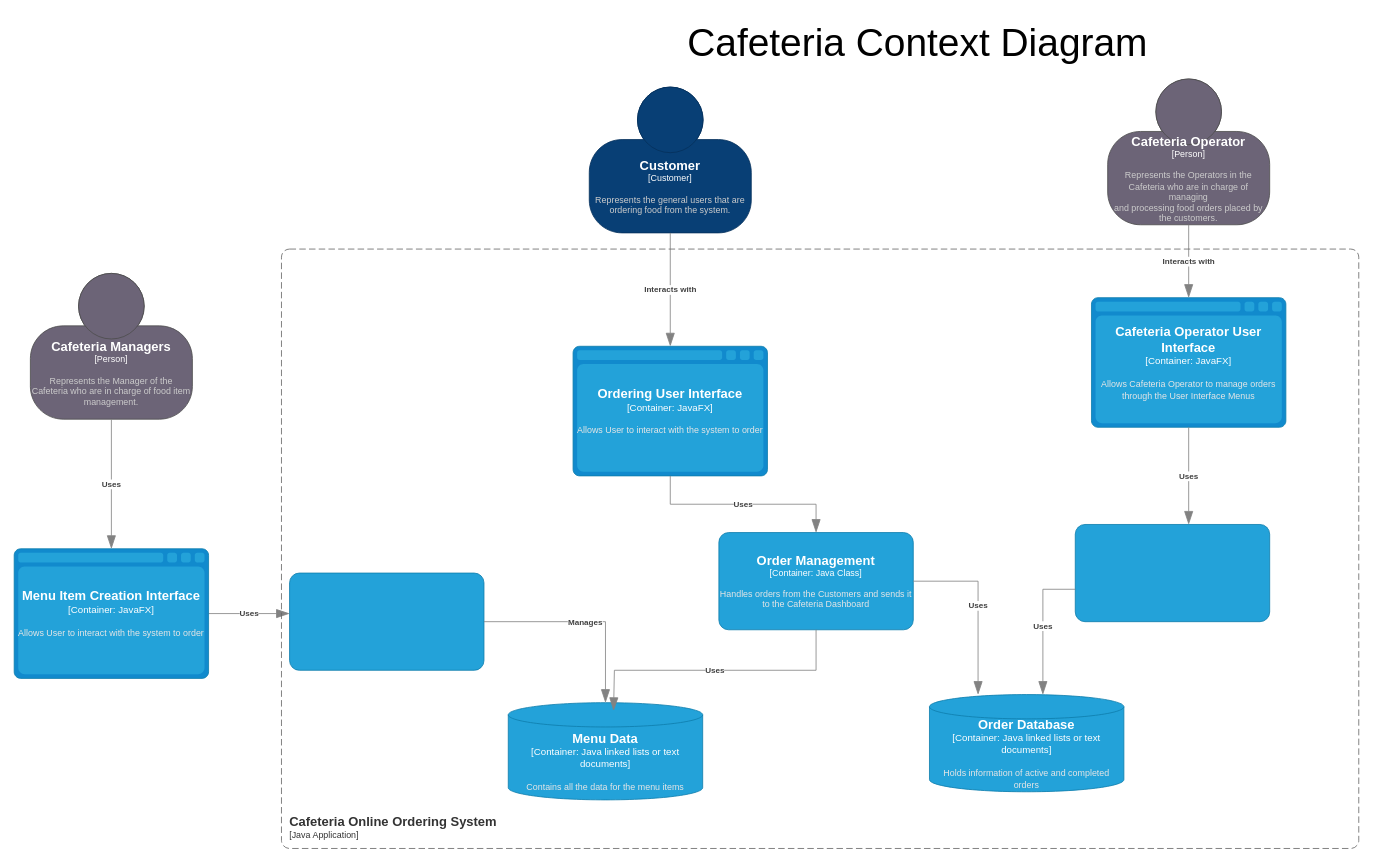
This 1373x863 diagram has some shape labels left out. The shapes that lost their labels are listed below. From the top down, each one's centre as x and y in pixels, then its label:
At point (1172, 573): "Dashboard [Container: Java Class] Allows for management of orders".
At point (386, 621): "Menu Item Factory [Container: Java Application] Adds items to the menu".
